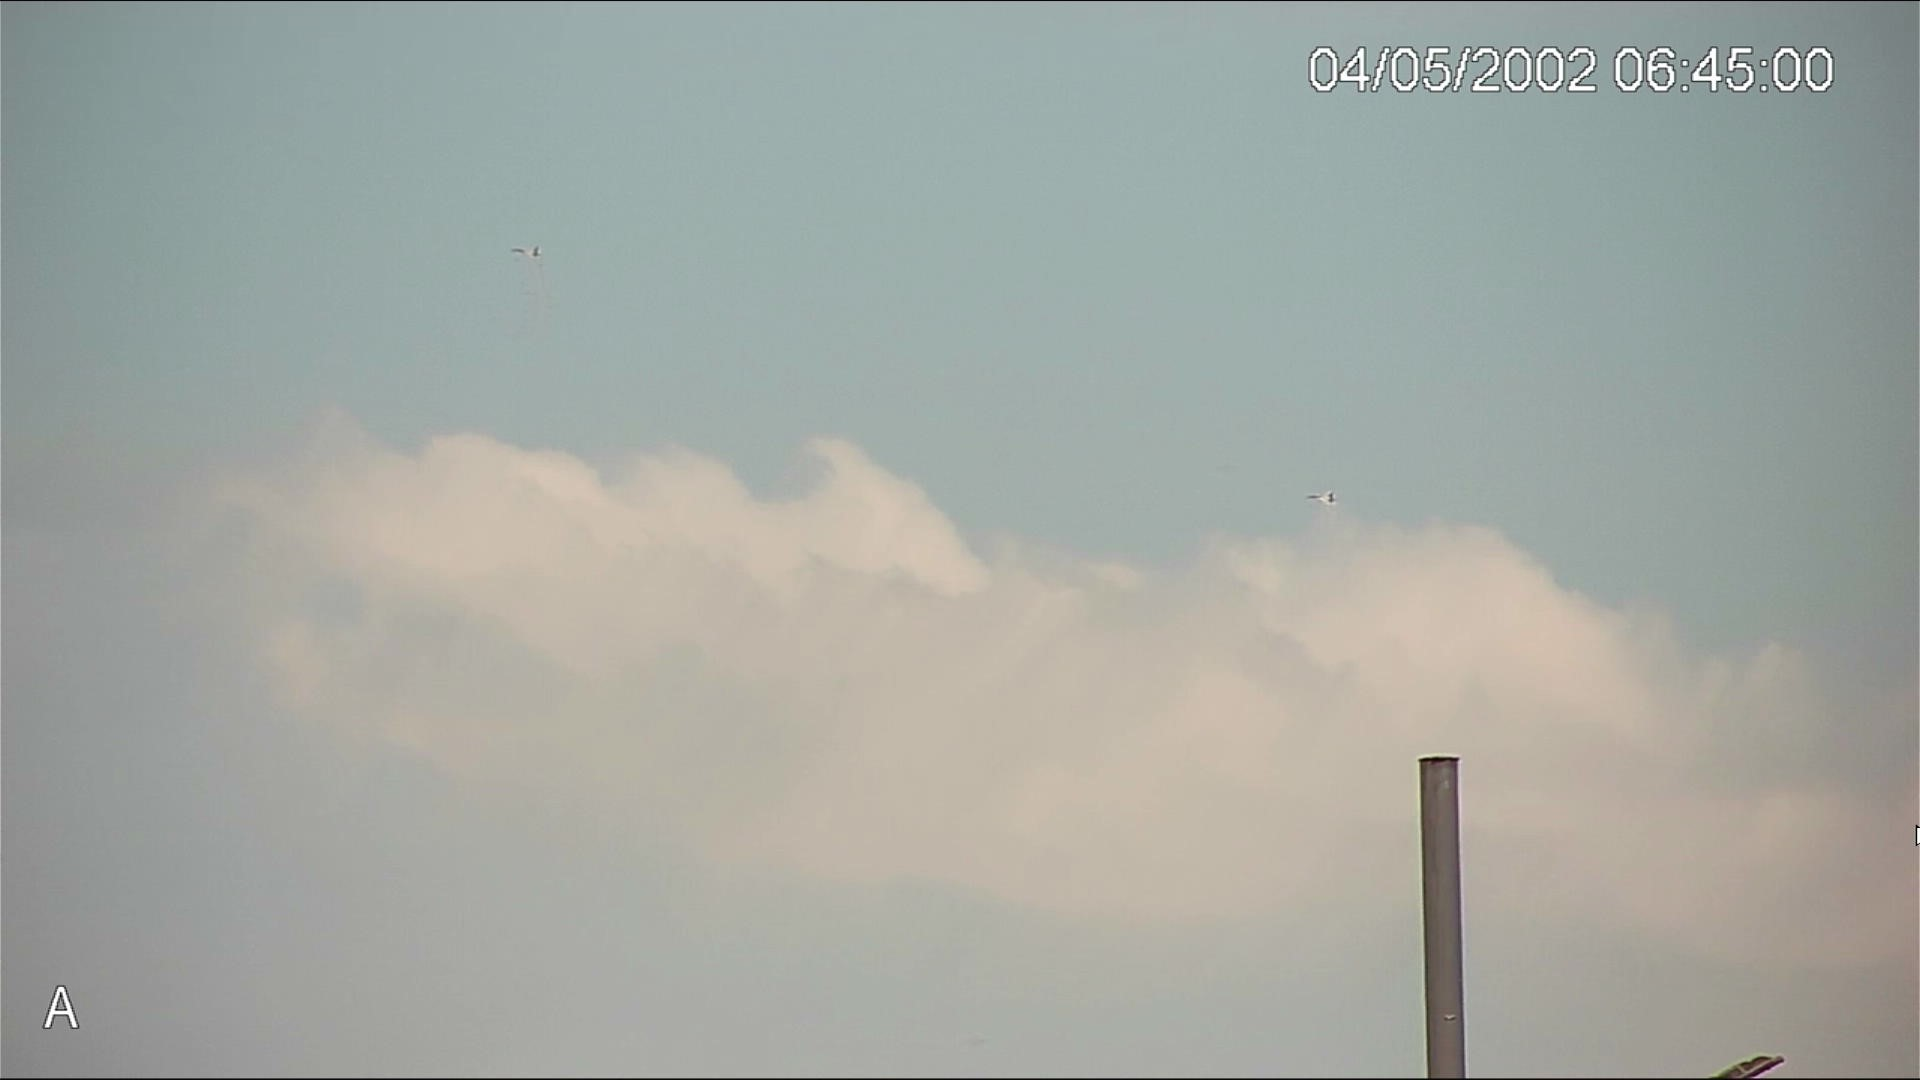SU_30: (1308, 489, 1338, 508), (512, 243, 545, 258)
